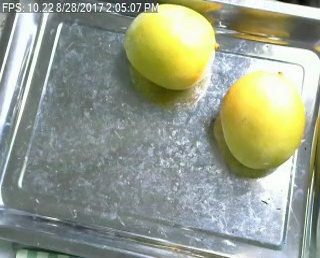Mango: (215, 63, 305, 170), (119, 4, 219, 94)
